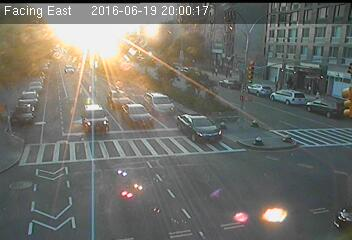neg: (34, 185, 58, 217), (103, 41, 127, 72), (107, 176, 129, 205), (18, 107, 40, 136), (294, 141, 315, 169), (32, 41, 51, 66), (87, 124, 103, 146), (172, 151, 188, 173), (250, 62, 265, 82), (314, 43, 328, 63), (155, 46, 168, 63), (281, 83, 294, 100), (235, 210, 248, 227), (255, 134, 267, 150), (203, 102, 212, 115)
